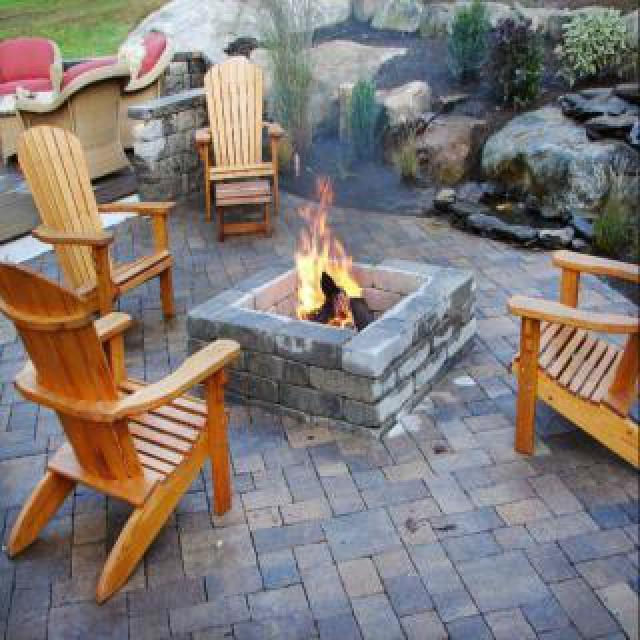Fire: (299, 172, 362, 312)
Smoke: (294, 127, 362, 177)
